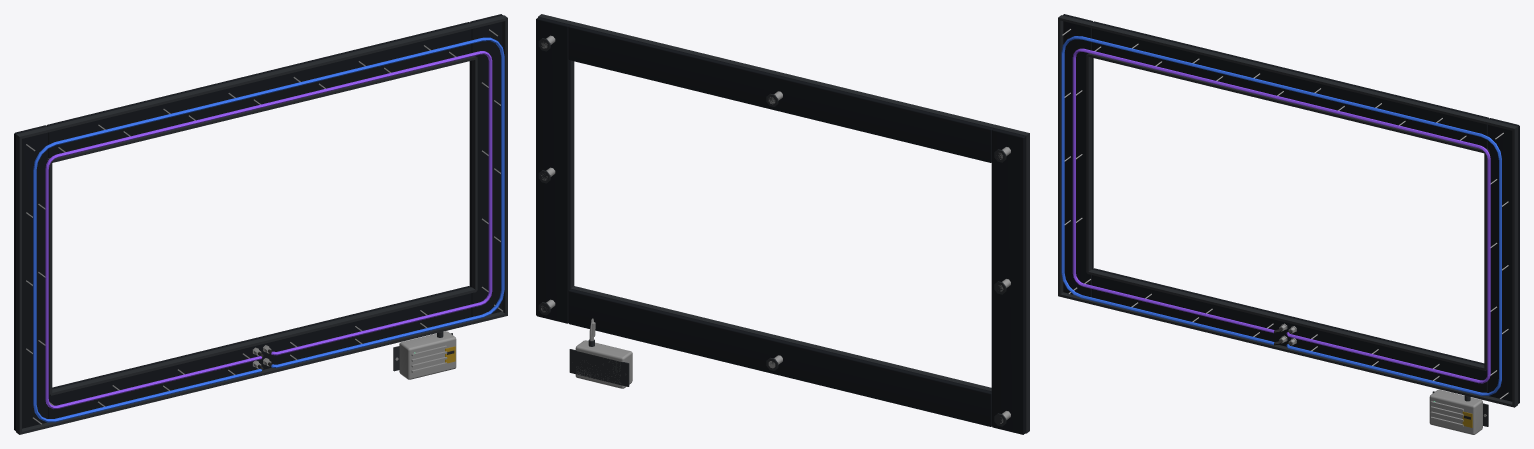
The model's file is Neon_Frame_Rect.fbx.
3 renders of one model, left to right at view 1: azimuth 30°, elevation 25°; view 2: azimuth 150°, elevation 25°; view 3: azimuth 330°, elevation 25°, orthographic. The views are drawn at different scales.
Visible parts, largest first — view 1: Neon_Frame_Rect_LOD0; view 2: Neon_Frame_Rect_LOD0; view 3: Neon_Frame_Rect_LOD0.
Boxes of the visible parts, x1=… form: Neon_Frame_Rect_LOD0: x1=14, y1=14, x2=507, y2=434; Neon_Frame_Rect_LOD0: x1=536, y1=14, x2=1029, y2=434; Neon_Frame_Rect_LOD0: x1=1058, y1=14, x2=1519, y2=434.
Size of what is drawn, in the model's own units: 2.4 by 1.61 by 0.1675.
